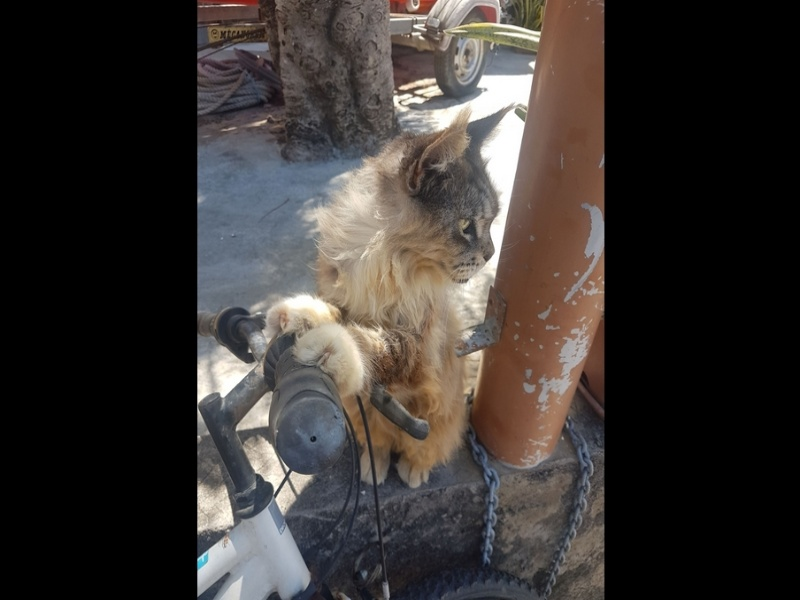cat: (266, 98, 514, 521)
